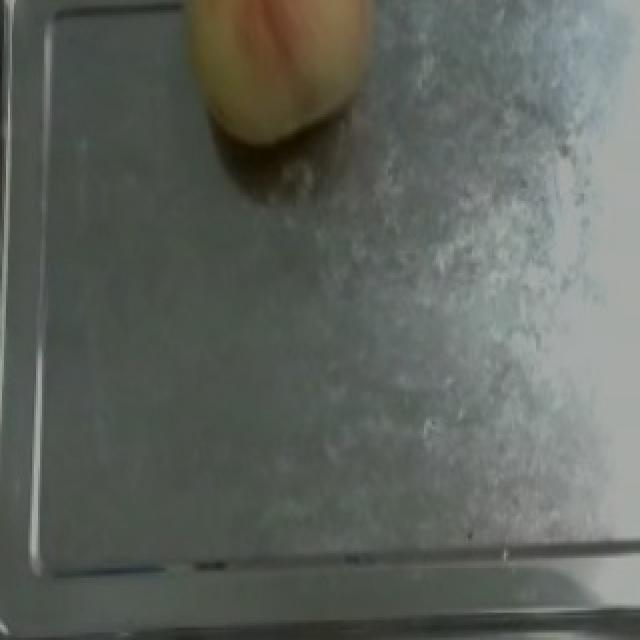Fruit: (172, 0, 400, 156)
